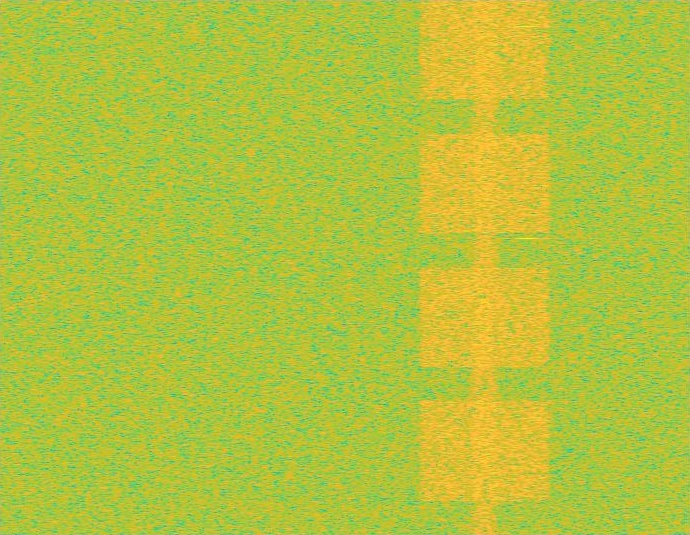5G: (416, 0, 554, 534)
DSSS: (469, 0, 501, 534)
Radar: (520, 0, 534, 534)
